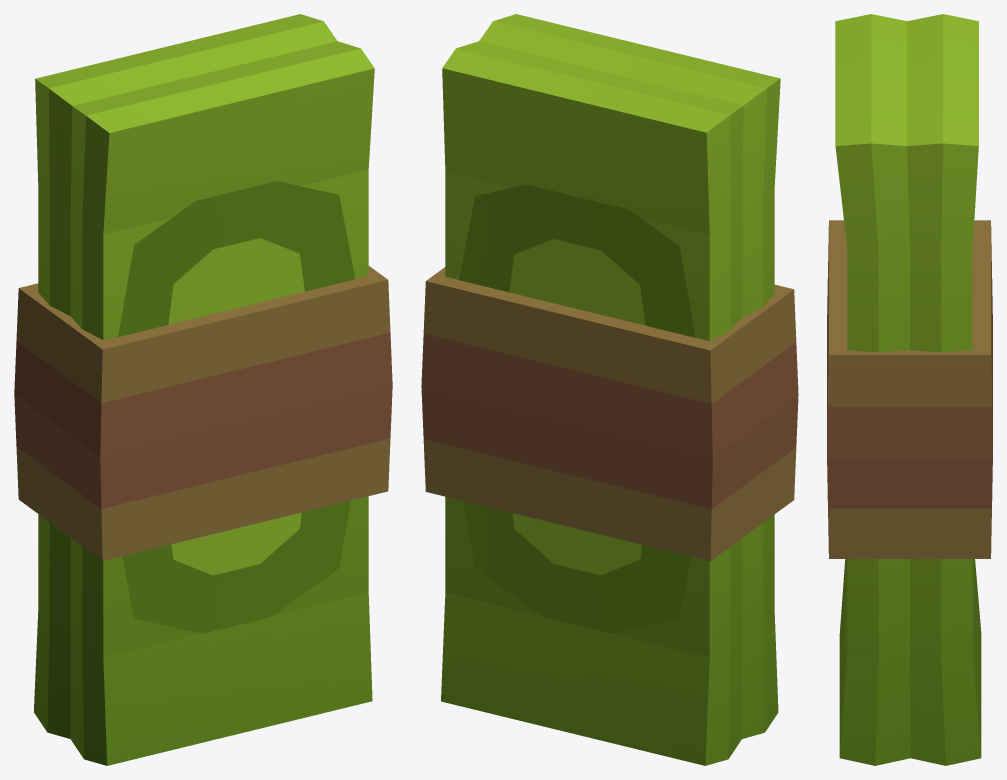
File: Money.fbx
The picture shows the model from 3 angles, left to right: view 1: azimuth 30°, elevation 25°; view 2: azimuth 150°, elevation 25°; view 3: azimuth 270°, elevation 25°; orthographic projection. The views are drawn at different scales.
Parts seen in each view (by area): view 1: Money; view 2: Money; view 3: Money.
Boxes of the visible parts, x1,y1,x2,y2 form: Money: (14, 14, 392, 765); Money: (421, 14, 798, 765); Money: (827, 14, 992, 765).
Size of the model in its own units: 96.45 by 203 by 49.13.
